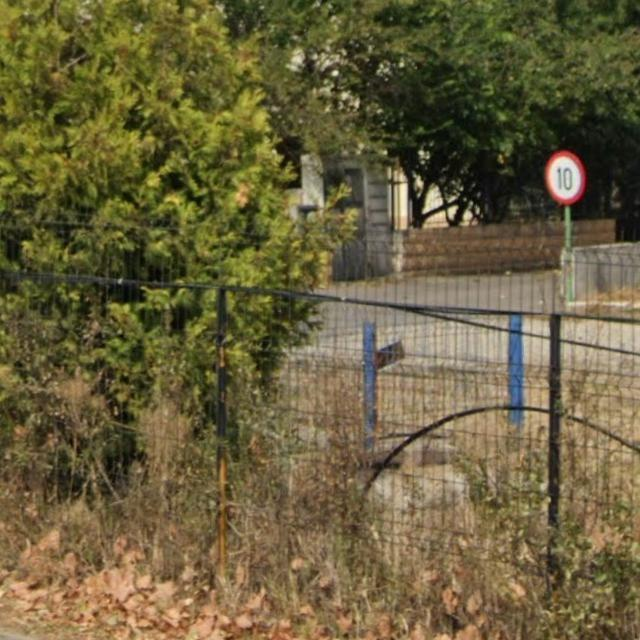forb_speed_over_10: (545, 150, 587, 205)
